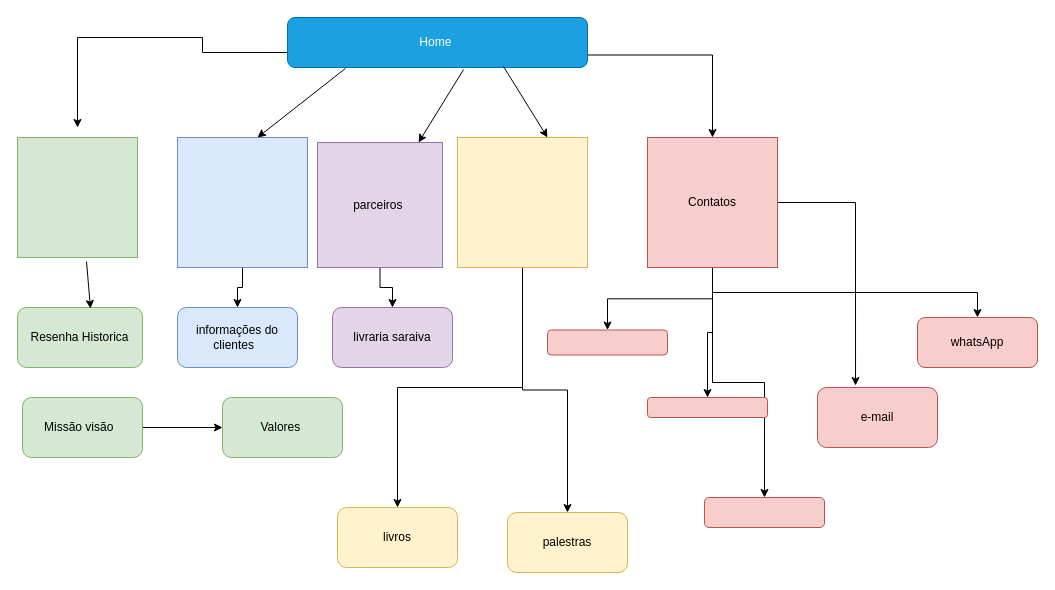
This 1055x590 diagram has some shape labels left out. Here are the shapes that lost their labels. From the top down, the box of each, then its label:
(16, 136, 138, 258): Quem somos
(176, 136, 308, 268): inscriçoes
(456, 136, 588, 268): Produtos
(546, 329, 668, 355): twitter
(646, 396, 768, 418): instagram
(704, 496, 824, 528): facebook
